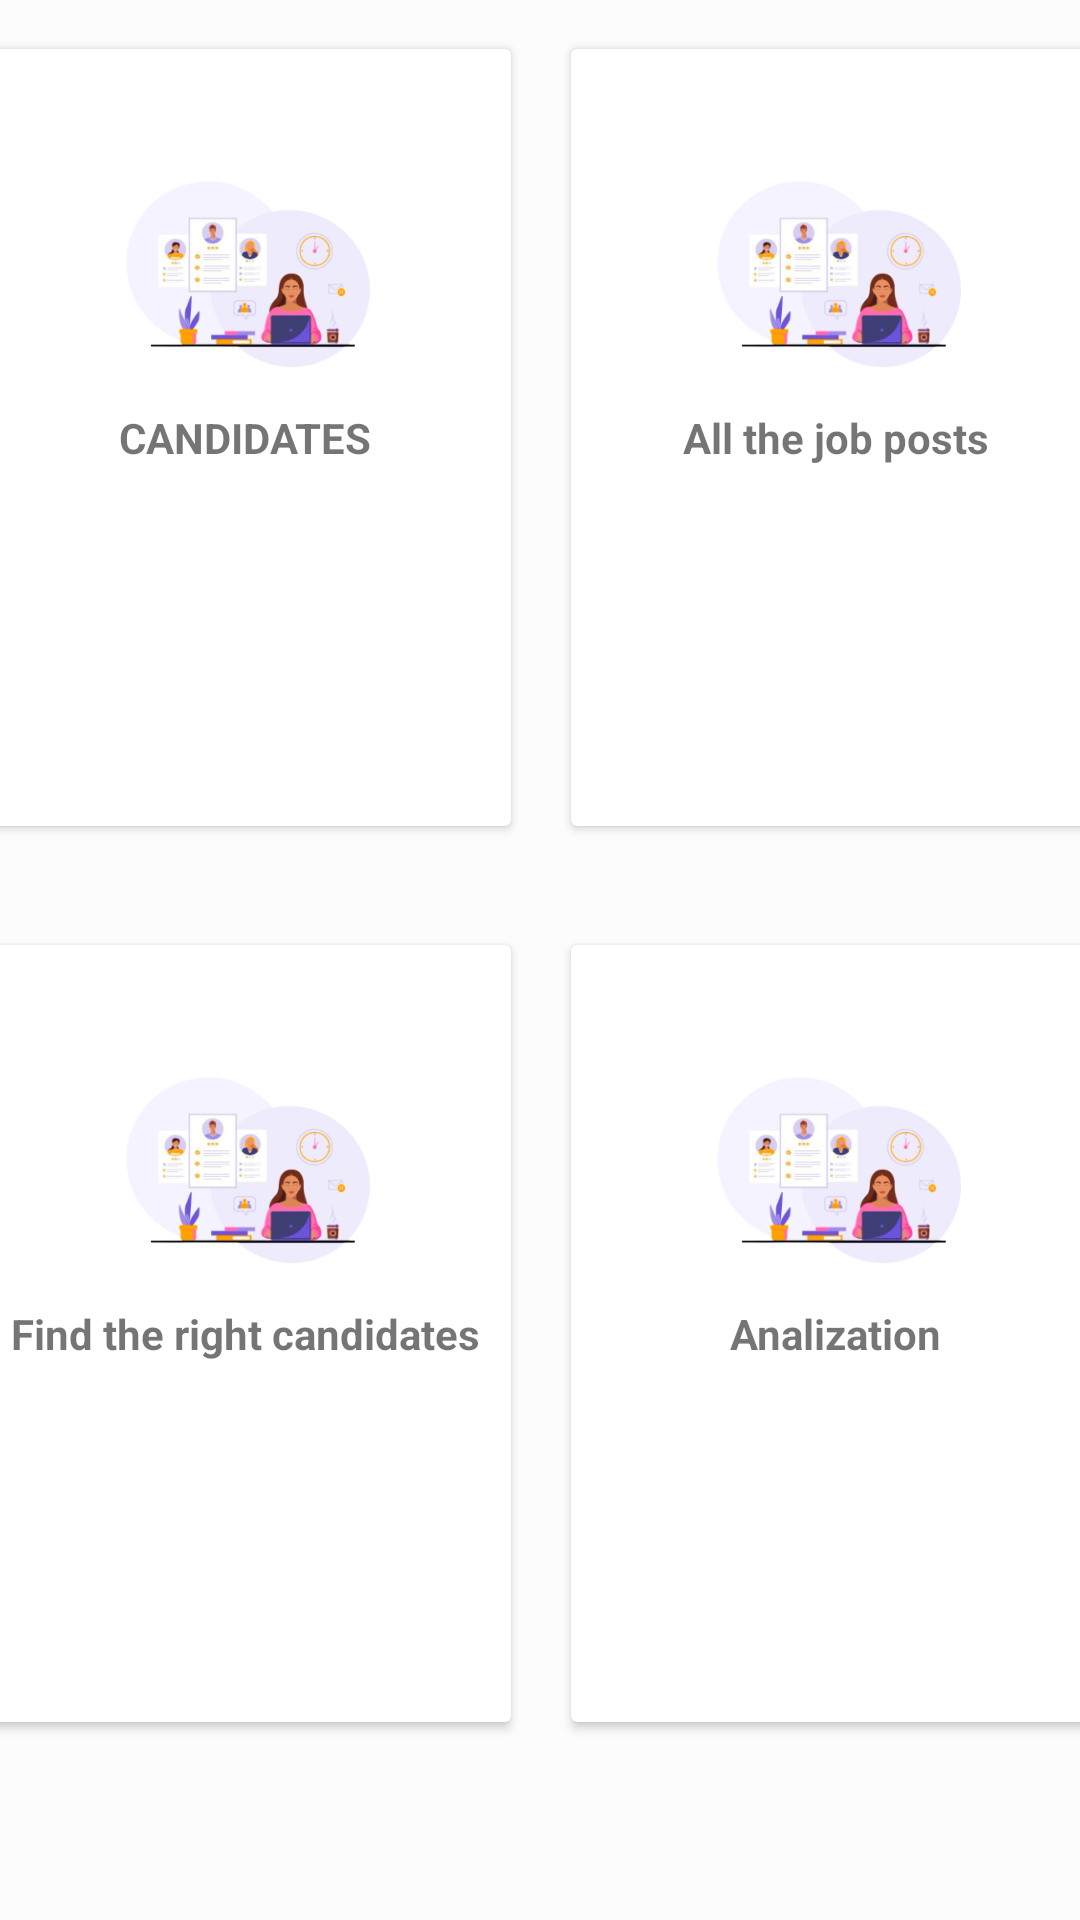

Screen size 1080*1920. Icon name, then its box in pixels as (x1, y1, x2, y2):
searchjobicon: (150, 218, 355, 348), (741, 218, 946, 348), (150, 1114, 355, 1244), (741, 1114, 946, 1244)
